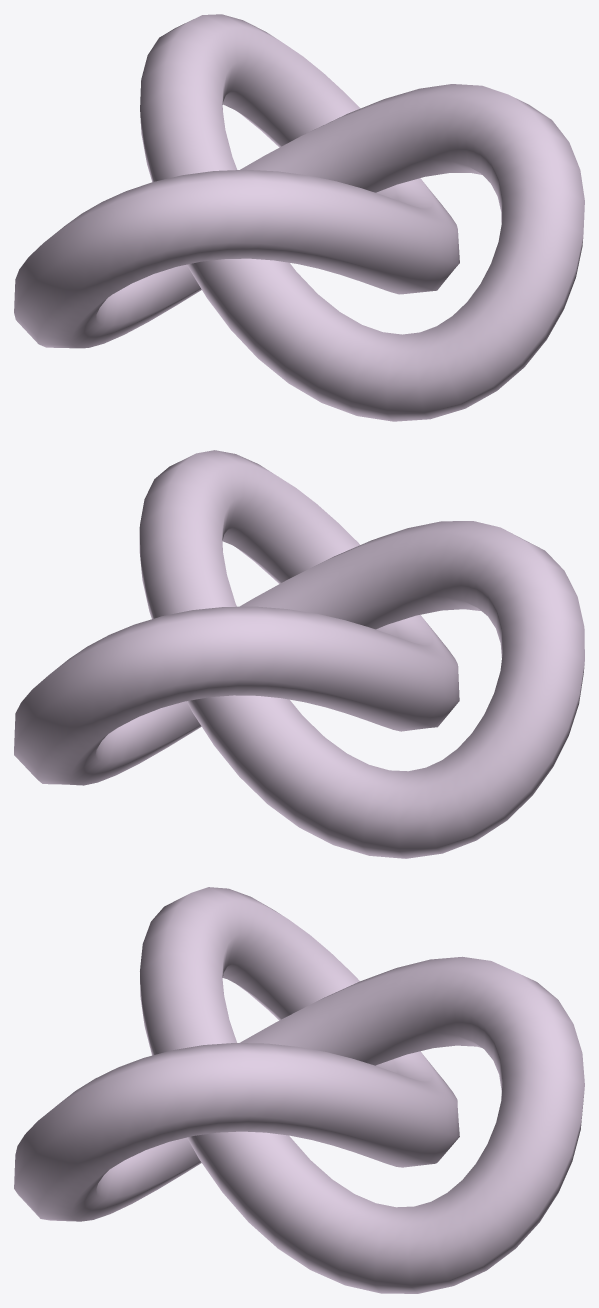
The model's file is TorusKnot.gltf.
3 views of the same model, one above another, from view 1: azimuth 30°, elevation 25°; view 2: azimuth 150°, elevation 25°; view 3: azimuth 270°, elevation 25° (orthographic).
Parts seen in each view (by area): view 1: TorusKnot; view 2: TorusKnot; view 3: TorusKnot.
Boxes of the visible parts, x1=… form: TorusKnot: x1=14, y1=14, x2=584, y2=421; TorusKnot: x1=14, y1=450, x2=584, y2=858; TorusKnot: x1=14, y1=887, x2=584, y2=1293.
Size of the model in its own units: 6.04 by 2.96 by 6.41.
